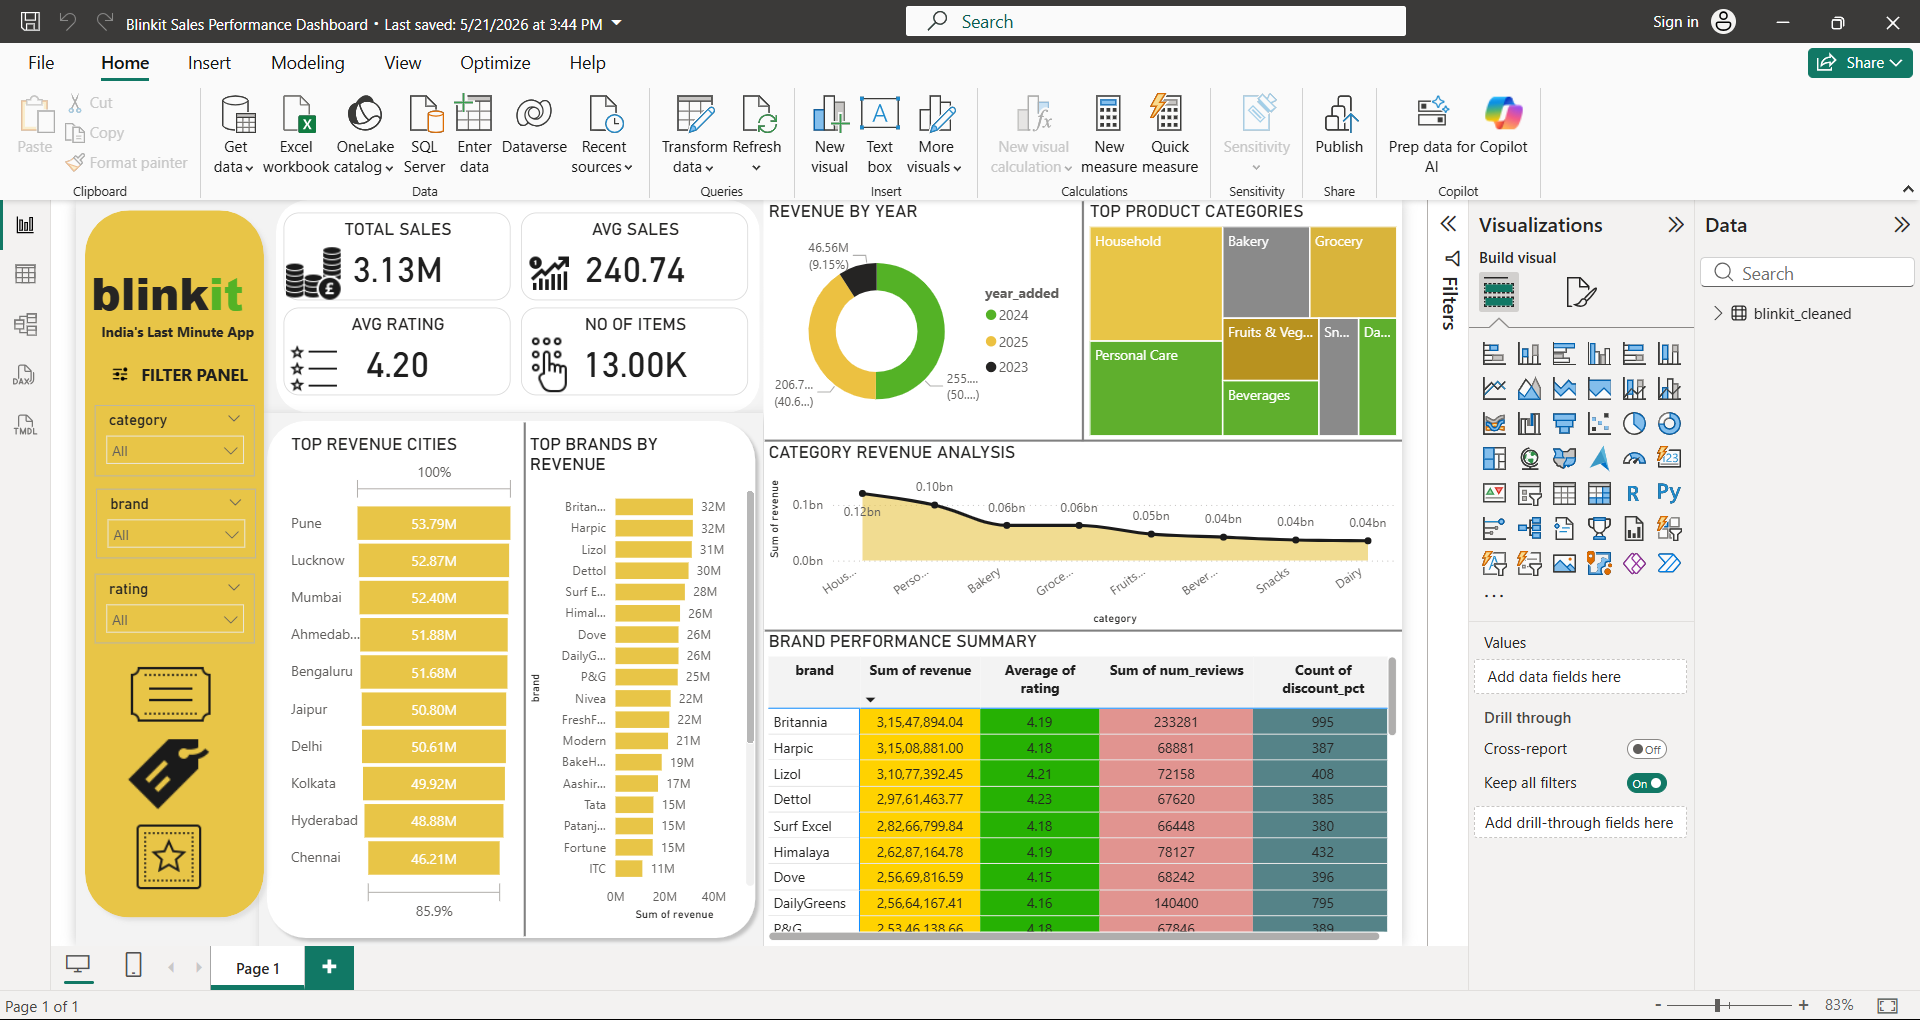

The dashboard page shown, as its layout file describes it:
{"tool":"powerbi","page":{"name":"Page 1","canvas":[1280,720],"ordinal":0},"visuals":[{"type":"shape","box":[193,0,466.9,205.1],"z":0},{"type":"shape","box":[176.1,205.1,487.4,515.2],"z":1000},{"type":"shape","box":[0,1.2,190,700],"z":2000},{"type":"card","title":"TOTAL SALES","fields":{"Values":["Sum(blinkit_cleaned.final_price)"]},"box":[200.3,12.1,219.6,84.5],"z":3000},{"type":"card","title":"AVG SALES","fields":{"Values":["Avg(blinkit_cleaned.final_price)"]},"box":[429.5,12.1,219.6,84.5],"z":4000},{"type":"card","title":"AVG RATING","fields":{"Values":["Avg(blinkit_cleaned.rating)"]},"box":[200.3,103.8,219.6,84.5],"z":5000},{"type":"card","title":"NO OF ITEMS","fields":{"Values":["CountNonNull(blinkit_cleaned.product_id)"]},"box":[429.5,103.8,219.6,84.5],"z":6000},{"type":"textbox","box":[57.9,152,126.7,43.4],"z":7000},{"type":"slicer","fields":{"Values":["blinkit_cleaned.category"]},"box":[18.1,197.9,154.4,68.8],"z":8000},{"type":"slicer","fields":{"Values":["blinkit_cleaned.brand"]},"box":[19.3,278.7,154.4,67.6],"z":9000},{"type":"slicer","fields":{"Values":["blinkit_cleaned.rating"]},"box":[18.1,360.7,154.4,67.6],"z":10000},{"type":"areaChart","title":"CATEGORY REVENUE ANALYSIS","fields":{"Category":["blinkit_cleaned.category"],"Y":["Sum(blinkit_cleaned.revenue)"]},"box":[663.5,232.8,616.5,182.2],"z":11000},{"type":"donutChart","title":"REVENUE BY YEAR","fields":{"Y":["Sum(blinkit_cleaned.revenue)"],"Category":["blinkit_cleaned.year_added"]},"box":[663.5,0,308.8,232.8],"z":12000},{"type":"clusteredBarChart","title":"TOP BRANDS BY REVENUE","fields":{"Y":["Sum(blinkit_cleaned.revenue)"],"Category":["blinkit_cleaned.brand"]},"box":[433.1,225.6,226.8,475.3],"z":13000},{"type":"treemap","title":"TOP PRODUCT CATEGORIES","fields":{"Group":["blinkit_cleaned.category"],"Values":["Sum(blinkit_cleaned.revenue)"]},"box":[973.6,0,306.4,232.8],"z":14000},{"type":"pivotTable","title":"BRAND PERFORMANCE SUMMARY","fields":{"Rows":["blinkit_cleaned.brand"],"Values":["Sum(blinkit_cleaned.revenue)","Avg(blinkit_cleaned.rating)","Sum(blinkit_cleaned.num_reviews)","CountNonNull(blinkit_cleaned.discount_pct)"]},"box":[663.5,415,616.5,305.2],"z":15000},{"type":"funnel","title":"TOP REVENUE CITIES","fields":{"Y":["Sum(blinkit_cleaned.revenue)"],"Category":["blinkit_cleaned.city"]},"box":[202.7,225.6,226.8,475.3],"z":16000},{"type":"textbox","box":[19.3,113.4,165.3,38.6],"z":17000},{"type":"textbox","box":[9.7,54.3,193,97.7],"z":18000},{"type":"image","box":[27.7,160.5,30.2,15],"z":19000},{"type":"shape","box":[951.9,1.2,39.8,231.6],"z":20000},{"type":"shape","box":[664.7,214.7,615.3,35],"z":21000},{"type":"shape","box":[413.8,214.7,38.6,495.8],"z":22000},{"type":"shape","box":[664.7,398.1,615.3,35],"z":23000},{"type":"image","box":[43.4,433.1,96.5,88.1],"z":24000},{"type":"image","box":[424.7,49.5,62.7,42.2],"z":25000},{"type":"image","box":[18.1,511.5,142.4,80.8],"z":26000},{"type":"image","box":[424.7,132.7,62.7,53.1],"z":27000},{"type":"image","box":[202.7,43.4,53.1,53.1],"z":28000},{"type":"image","box":[9.7,592.4,160.5,83.2],"z":29000},{"type":"image","box":[199.1,139.9,60.3,45.8],"z":30000}]}

Visuals, with their boxes on the page's 1280x720 design canvas (x1, y1, x2, y2). These are canvas units, not pixel positions in the 1920x1020 screenshot, which may show the page scaled, cropped or inside an application window:
shape: {"left": 193, "top": 0, "right": 660, "bottom": 205}
shape: {"left": 176, "top": 205, "right": 664, "bottom": 720}
shape: {"left": 0, "top": 1, "right": 190, "bottom": 701}
"TOTAL SALES" card: {"left": 200, "top": 12, "right": 420, "bottom": 97}
"AVG SALES" card: {"left": 430, "top": 12, "right": 649, "bottom": 97}
"AVG RATING" card: {"left": 200, "top": 104, "right": 420, "bottom": 188}
"NO OF ITEMS" card: {"left": 430, "top": 104, "right": 649, "bottom": 188}
textbox: {"left": 58, "top": 152, "right": 185, "bottom": 195}
slicer - blinkit_cleaned.category: {"left": 18, "top": 198, "right": 172, "bottom": 267}
slicer - blinkit_cleaned.brand: {"left": 19, "top": 279, "right": 174, "bottom": 346}
slicer - blinkit_cleaned.rating: {"left": 18, "top": 361, "right": 172, "bottom": 428}
"CATEGORY REVENUE ANALYSIS" areaChart: {"left": 664, "top": 233, "right": 1280, "bottom": 415}
"REVENUE BY YEAR" donutChart: {"left": 664, "top": 0, "right": 972, "bottom": 233}
"TOP BRANDS BY REVENUE" clusteredBarChart: {"left": 433, "top": 226, "right": 660, "bottom": 701}
"TOP PRODUCT CATEGORIES" treemap: {"left": 974, "top": 0, "right": 1280, "bottom": 233}
"BRAND PERFORMANCE SUMMARY" pivotTable: {"left": 664, "top": 415, "right": 1280, "bottom": 720}
"TOP REVENUE CITIES" funnel: {"left": 203, "top": 226, "right": 430, "bottom": 701}
textbox: {"left": 19, "top": 113, "right": 185, "bottom": 152}
textbox: {"left": 10, "top": 54, "right": 203, "bottom": 152}
image: {"left": 28, "top": 160, "right": 58, "bottom": 176}
shape: {"left": 952, "top": 1, "right": 992, "bottom": 233}
shape: {"left": 665, "top": 215, "right": 1280, "bottom": 250}
shape: {"left": 414, "top": 215, "right": 452, "bottom": 710}
shape: {"left": 665, "top": 398, "right": 1280, "bottom": 433}
image: {"left": 43, "top": 433, "right": 140, "bottom": 521}
image: {"left": 425, "top": 50, "right": 487, "bottom": 92}
image: {"left": 18, "top": 512, "right": 160, "bottom": 592}
image: {"left": 425, "top": 133, "right": 487, "bottom": 186}
image: {"left": 203, "top": 43, "right": 256, "bottom": 96}
image: {"left": 10, "top": 592, "right": 170, "bottom": 676}
image: {"left": 199, "top": 140, "right": 259, "bottom": 186}
